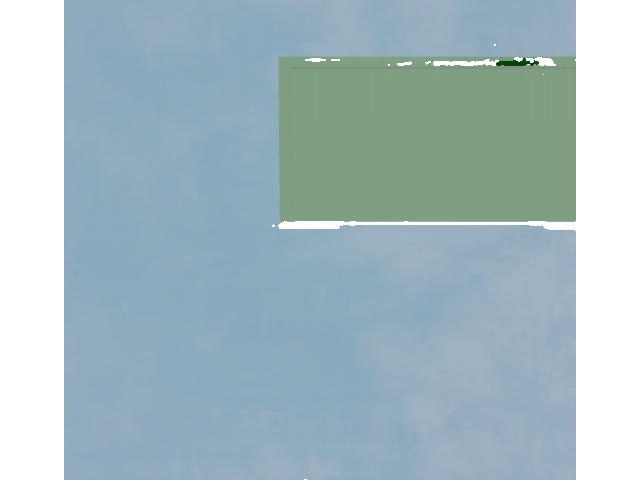container2: (272, 45, 621, 220)
